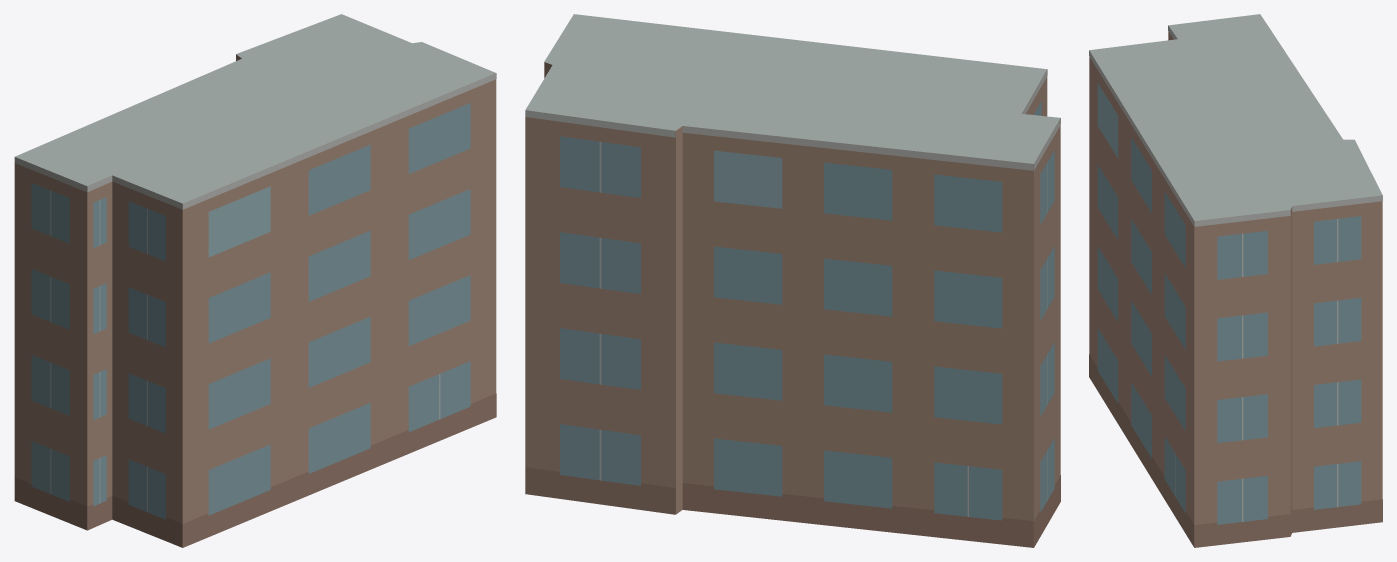
Rendered from survey-upis-32480075.glb.
The picture shows the model from 3 angles, left to right: view 1: azimuth 30°, elevation 25°; view 2: azimuth 150°, elevation 25°; view 3: azimuth 270°, elevation 25°; orthographic projection. The views are drawn at different scales.
Parts seen in each view (by area): view 1: survey-upis-32480075.tmp; view 2: survey-upis-32480075.tmp; view 3: survey-upis-32480075.tmp.
Part boxes in pixels (x1,y1,x2,y2): survey-upis-32480075.tmp: (14,14,496,547); survey-upis-32480075.tmp: (525,14,1060,547); survey-upis-32480075.tmp: (1089,14,1382,547).
Bounding box in the file's own units: 18.77 × 13.8 × 11.25.
